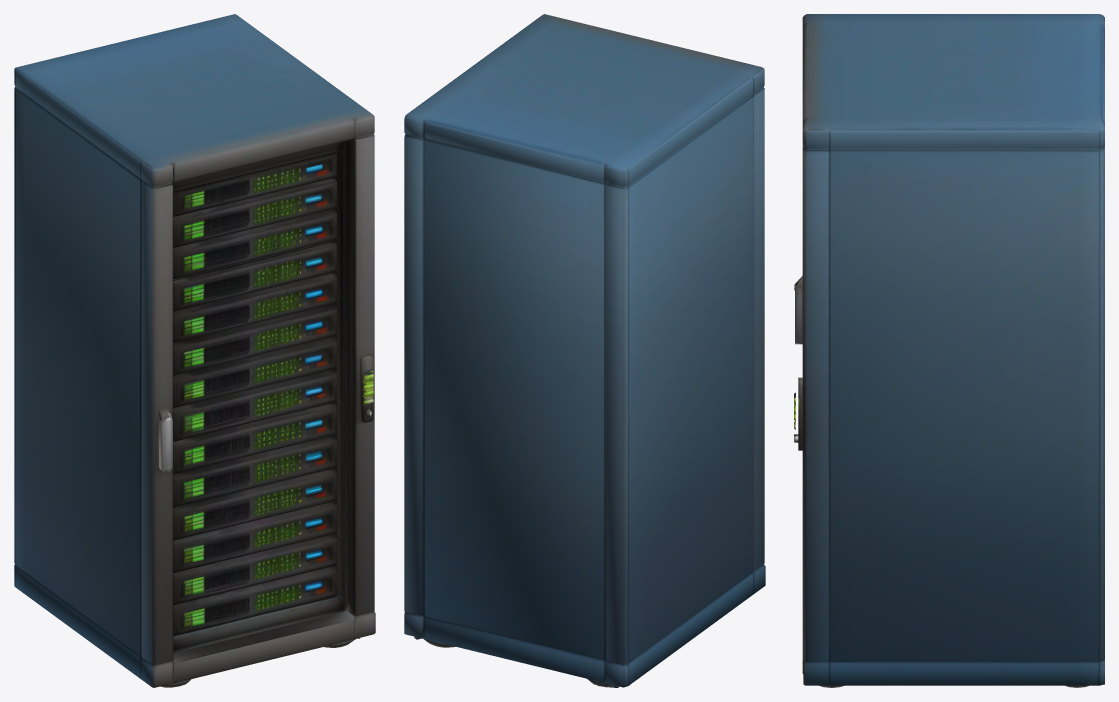
File: server_rack_c2999a18_v1.glb
3 renders of one model, left to right at view 1: azimuth 30°, elevation 25°; view 2: azimuth 150°, elevation 25°; view 3: azimuth 270°, elevation 25°, orthographic. The views are drawn at different scales.
Visible parts, largest first — view 1: material; view 2: material; view 3: material.
Part boxes in pixels (x1=…): material: x1=14, y1=14, x2=375, y2=687; material: x1=404, y1=14, x2=765, y2=687; material: x1=794, y1=14, x2=1104, y2=687.
Bounding box in the file's own units: 0.8416 × 1.9 × 0.9458.
1 material, 1 textured.
